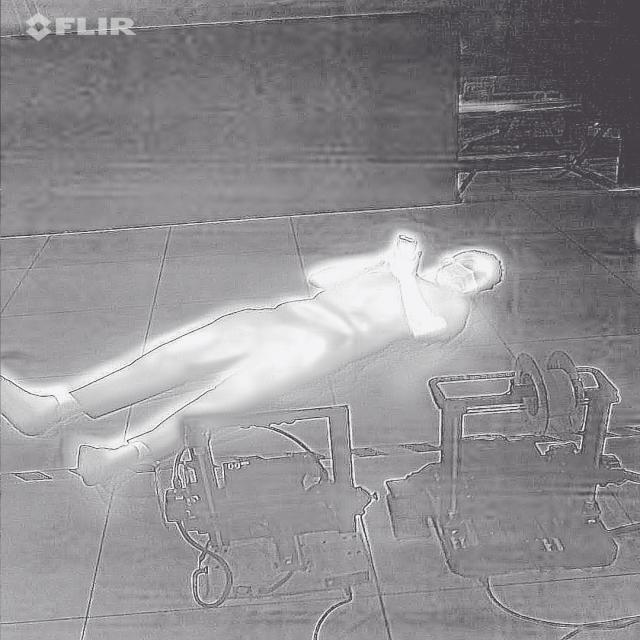Victim: (0, 230, 516, 483)
